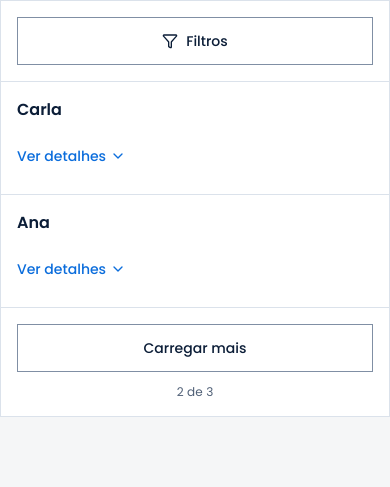
Test case: Table › local no celular com loadMore mostra a primeira fatia e soma a seguinte
Expected: the text "Carla" is shown, [17,98,62,121]
Expected: the text "Ana" is shown, [17,211,50,234]
What coordinates should you click on to do the following:
click the button "Carregar mais"
I would click on:
 (195, 348)
Its box is [17,324,373,372].
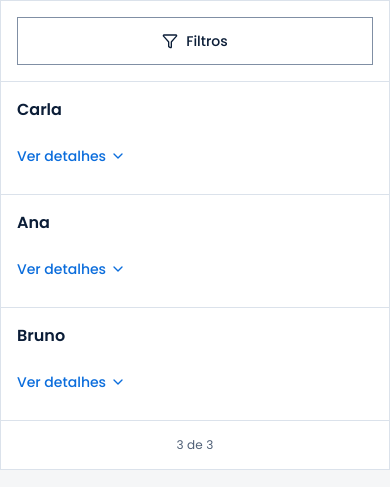
Expected: the text "Carla" is shown, [17,98,62,121]
Now the text "Bruno" is shown, box [17,324,65,347]
